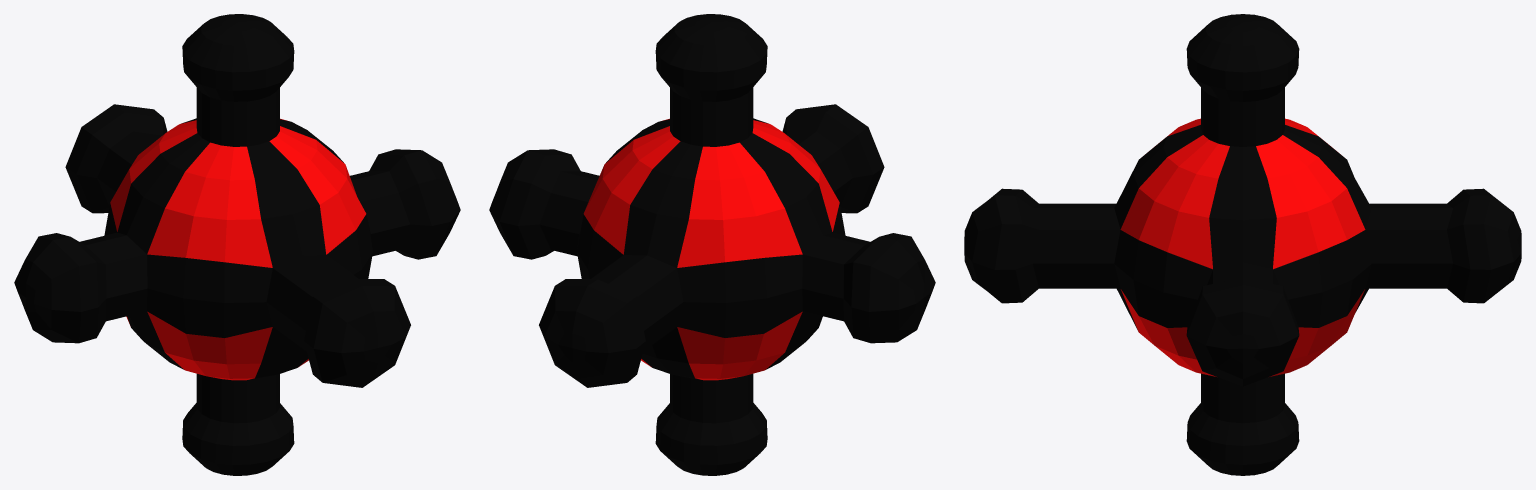
File: BombEnemy.FBX
The picture shows the model from 3 angles, left to right: view 1: azimuth 30°, elevation 25°; view 2: azimuth 150°, elevation 25°; view 3: azimuth 270°, elevation 25°; orthographic projection.
Visible parts, largest first — view 1: Sphere01; view 2: Sphere01; view 3: Sphere01.
Boxes of the visible parts, x1,y1,x2,y2 form: Sphere01: [14, 14, 460, 475]; Sphere01: [489, 14, 935, 475]; Sphere01: [964, 14, 1521, 475].
Size of the model in its own units: 145 by 145 by 165.
